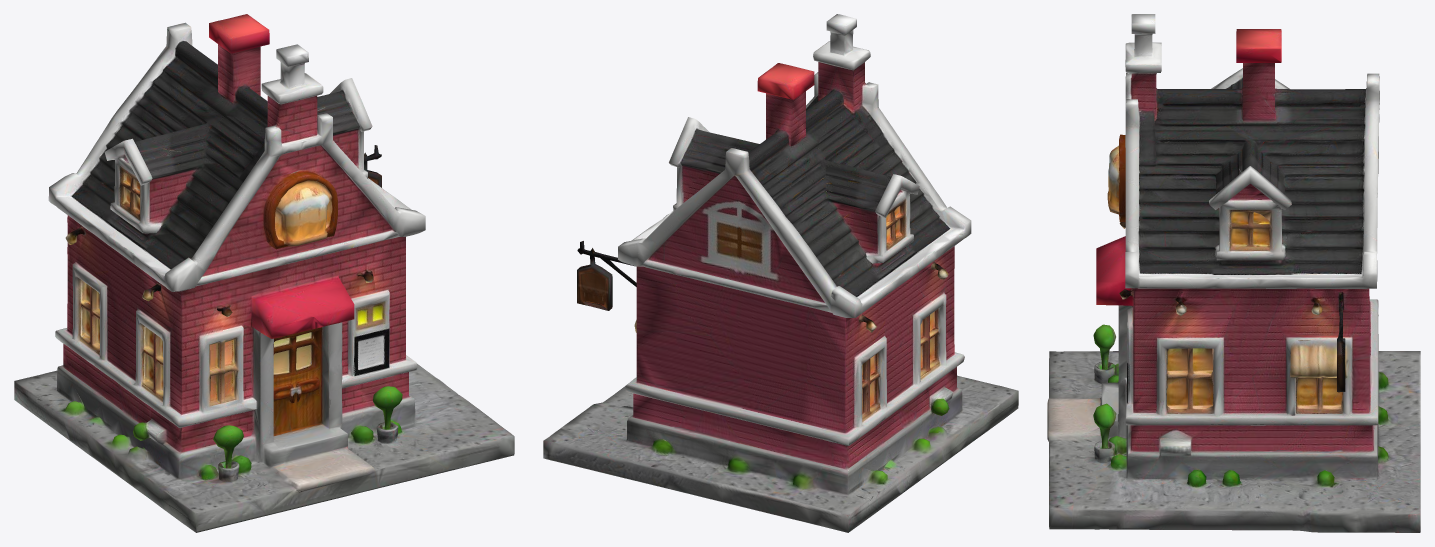
Rendered from barracks.glb.
3 renders of one model, left to right at view 1: azimuth 30°, elevation 25°; view 2: azimuth 150°, elevation 25°; view 3: azimuth 270°, elevation 25°, orthographic. The views are drawn at different scales.
Size of the model in its own units: 1.59 by 1.91 by 1.53.
Materials: 1 (1 with a texture image).
